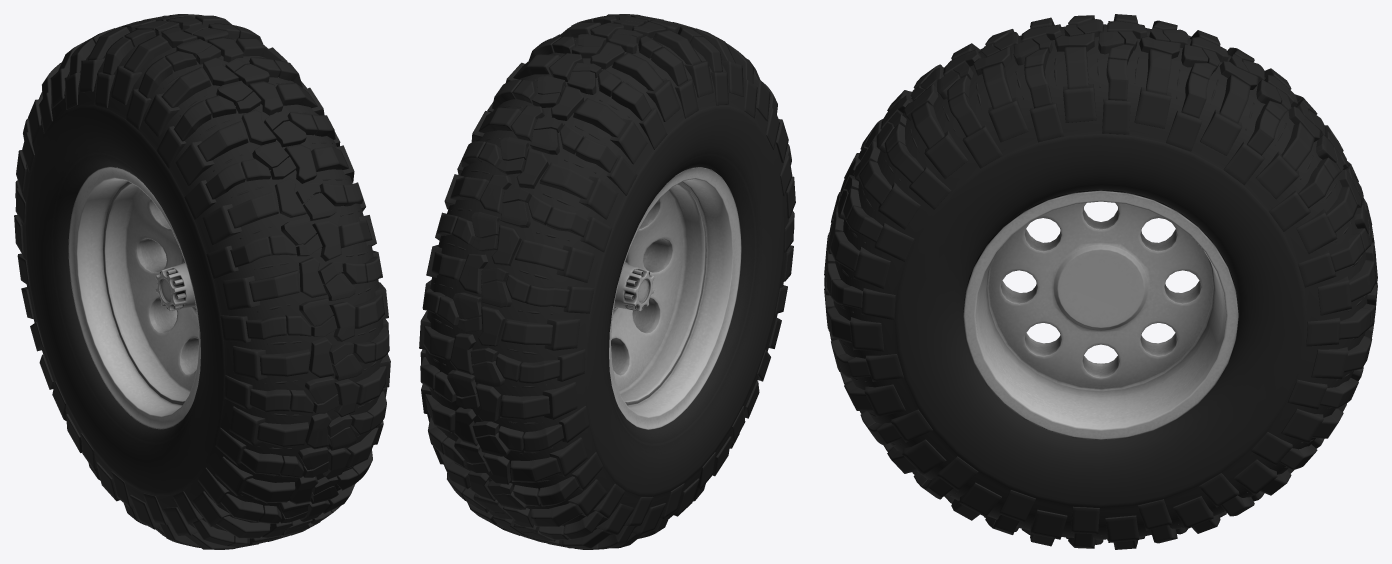
File: tire.fbx
The picture shows the model from 3 angles, left to right: view 1: azimuth 30°, elevation 25°; view 2: azimuth 150°, elevation 25°; view 3: azimuth 270°, elevation 25°; orthographic projection. The views are drawn at different scales.
Visible parts, largest first — view 1: 13484_Off-Road_Tire_v1_L2; view 2: 13484_Off-Road_Tire_v1_L2; view 3: 13484_Off-Road_Tire_v1_L2.
Part boxes in pixels (left/top/right/bottom): 13484_Off-Road_Tire_v1_L2: left=14, top=14, right=390, bottom=549; 13484_Off-Road_Tire_v1_L2: left=419, top=14, right=795, bottom=549; 13484_Off-Road_Tire_v1_L2: left=824, top=14, right=1377, bottom=549.
Size of the model in its own units: 64.43 by 190 by 190.
2 materials, 2 textured.
